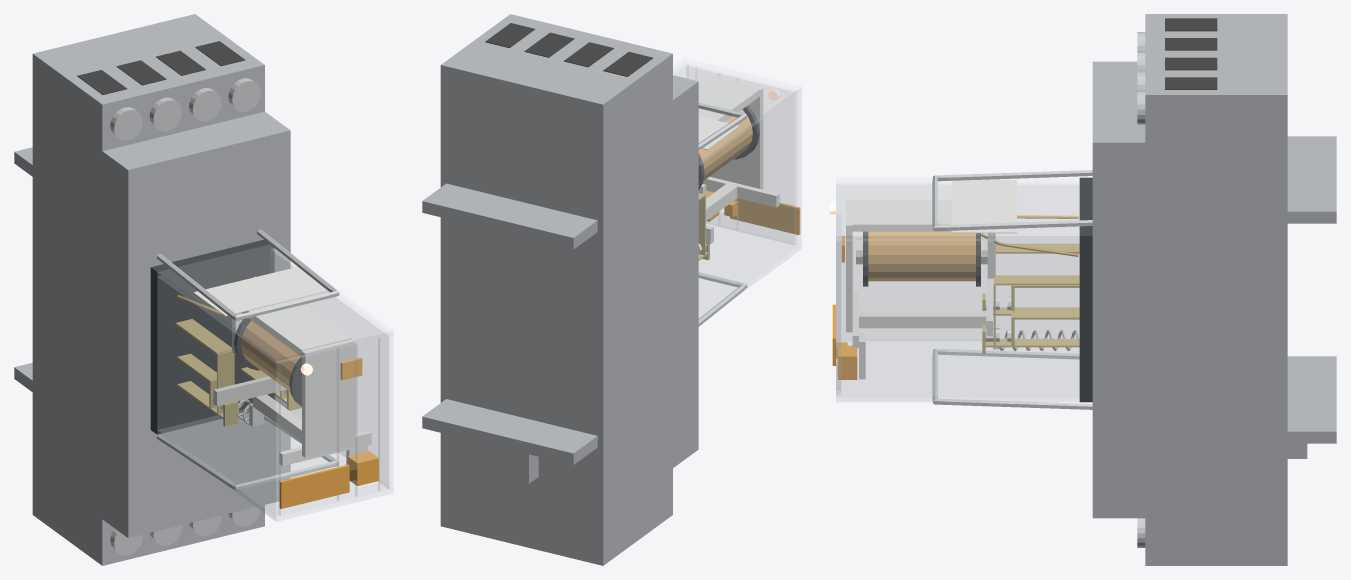
File: relay-ice-cube-2co.glb
3 renders of one model, left to right at view 1: azimuth 30°, elevation 25°; view 2: azimuth 150°, elevation 25°; view 3: azimuth 270°, elevation 25°, orthographic. The views are drawn at different scales.
Visible parts, largest first — view 1: body, case, armature, actuator, coil, door-lock, btn-test, t-14, t-9, t-12, t-13, pole-1 (+1 smaller); view 2: body, case, armature, actuator, door-lock, coil; view 3: body, case, coil, actuator, armature, btn-test.
Part boxes in pixels (x1,y1,x2,y2): body: (14,14,351,565); case: (157,245,393,521); armature: (302,339,355,457); actuator: (213,376,371,465); coil: (241,320,300,391); door-lock: (279,464,349,508); btn-test: (347,451,378,486); t-14: (149,97,182,131); t-9: (189,88,221,121); t-12: (228,78,260,111); t-13: (110,107,142,140); pole-1: (217,350,234,414); body: (422,14,759,565); case: (673,58,801,323); armature: (710,76,763,189); actuator: (698,176,779,243); door-lock: (724,198,800,234); coil: (698,109,752,180); body: (852,14,1336,565); case: (836,178,1079,401); coil: (868,231,975,281); actuator: (852,276,999,379); armature: (846,200,852,332); btn-test: (837,345,857,379).
Size of what is drawn, in the model's own units: 0.0292 by 0.0794 by 0.0772.
